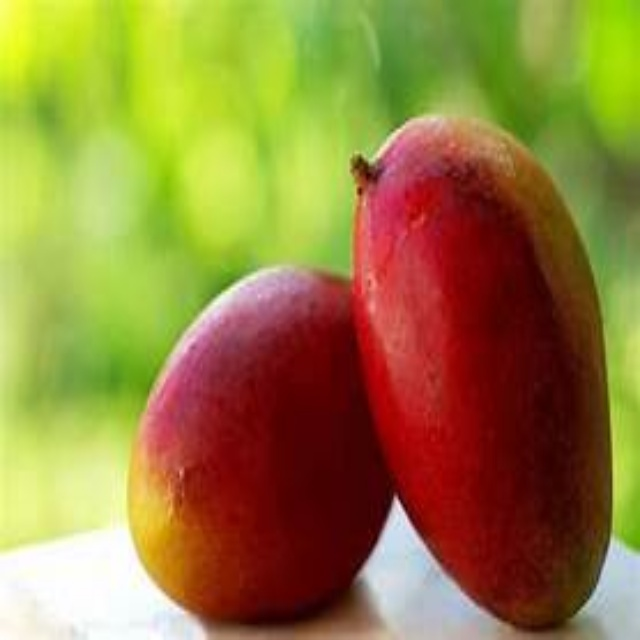mango: (344, 118, 614, 625), (121, 264, 393, 622)
